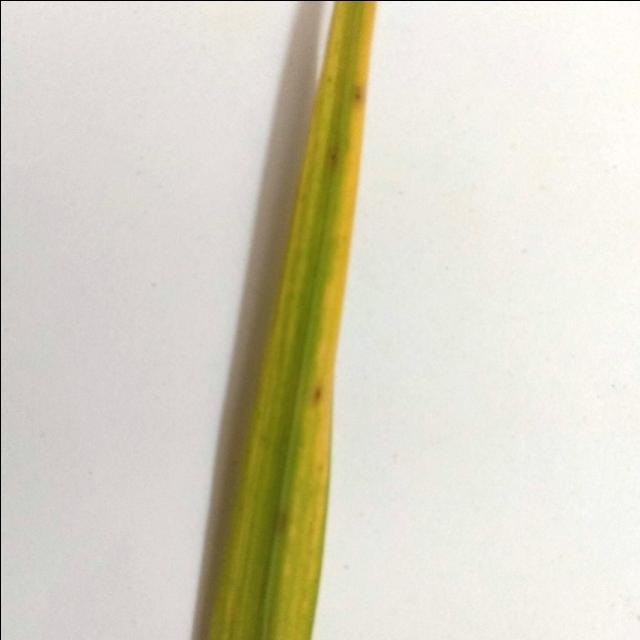Brown spot: (121, 0, 414, 640)
